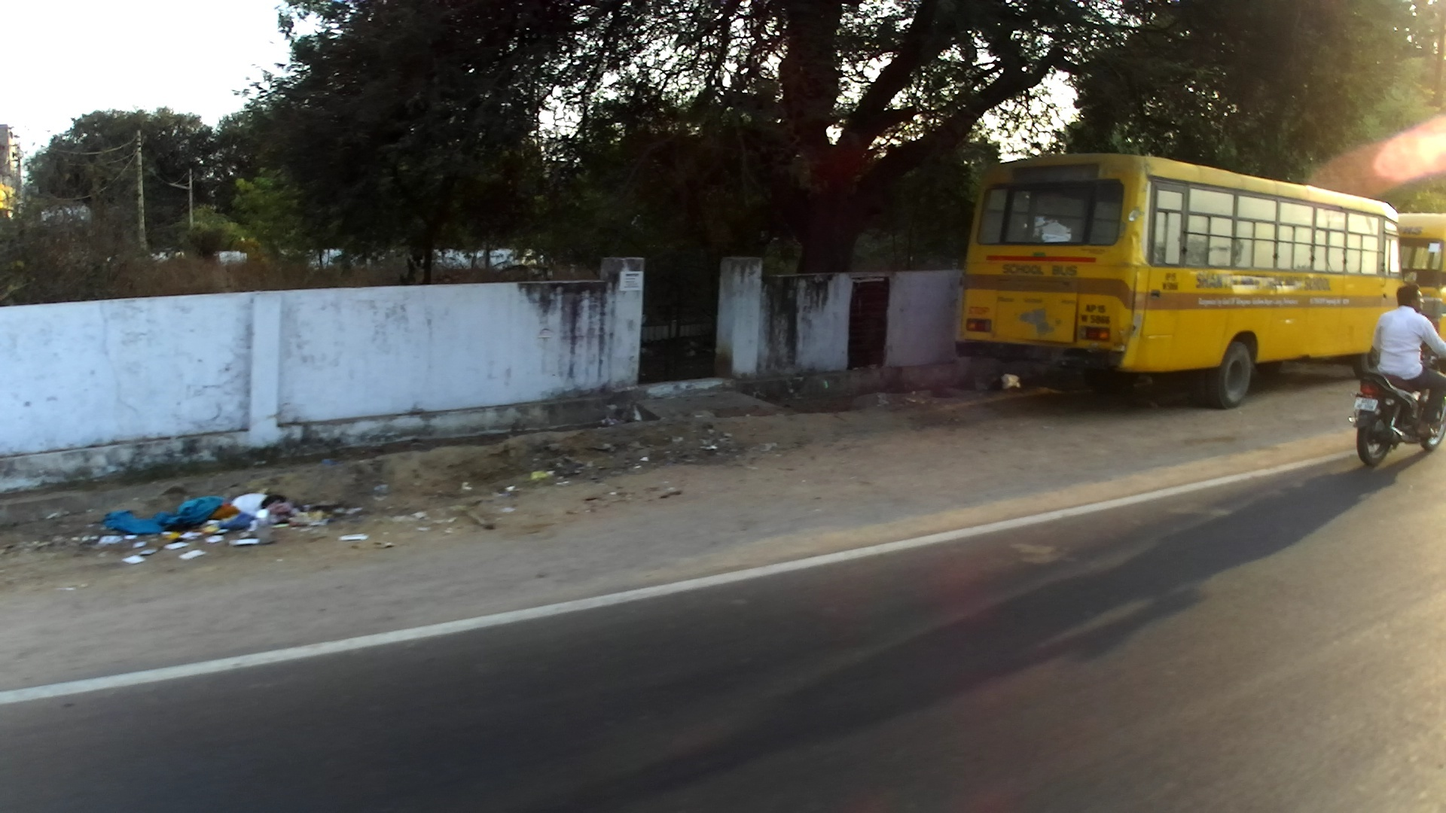bus: (955, 150, 1408, 424), (1379, 213, 1445, 352)
motorcycle: (1348, 352, 1445, 470)
rider: (1375, 285, 1441, 438)
